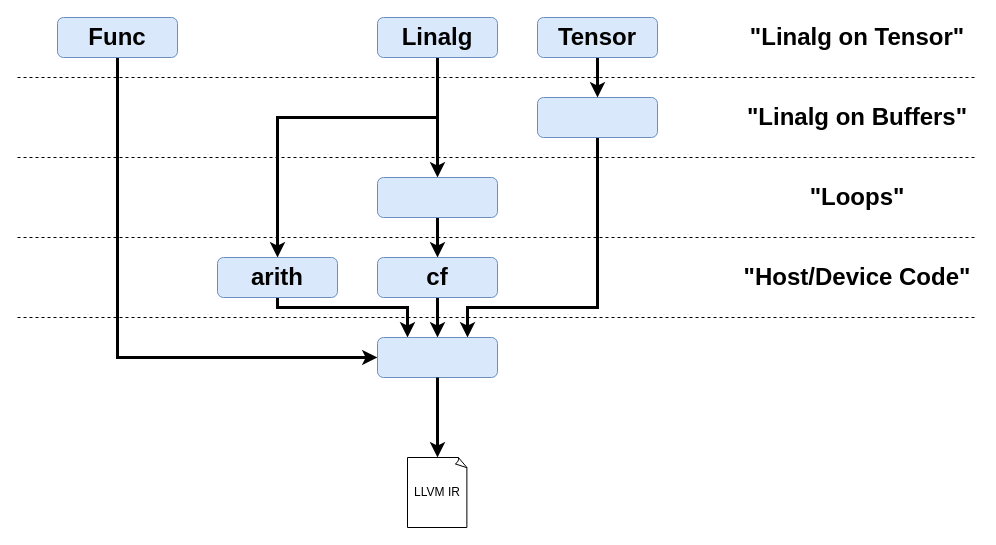
Some shapes in this 996 by 545 pixel diagram are drawn without their labels. The box of each missing label's shape, as (x1, y1, x2, y2) in pixels:
llvm: (376, 336, 498, 378)
MemRef: (536, 96, 658, 138)
scf: (376, 176, 498, 218)
